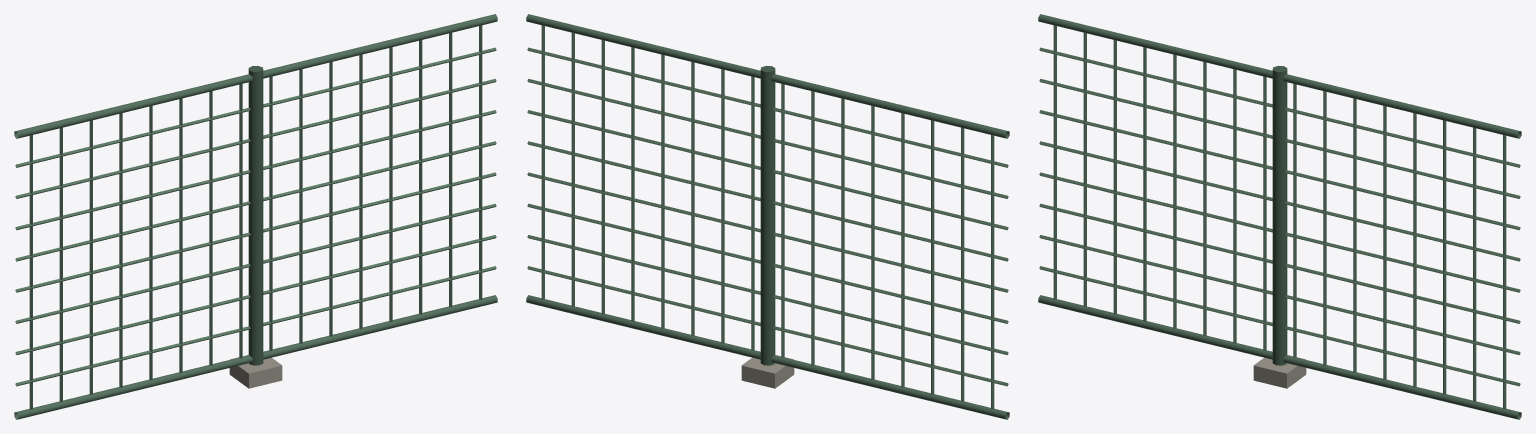
File: street_fence_01.glb
3 views of the same model, side by side, from view 1: azimuth 30°, elevation 25°; view 2: azimuth 150°, elevation 25°; view 3: azimuth 330°, elevation 25° (orthographic).
Visible parts, largest first — view 1: street_fence_01; view 2: street_fence_01; view 3: street_fence_01.
Boxes of the visible parts, x1,y1,x2,y2 form: street_fence_01: (14,14,497,419); street_fence_01: (526,14,1009,419); street_fence_01: (1038,14,1521,419).
Bounding box in the file's own units: 2 × 1.23 × 0.14.
